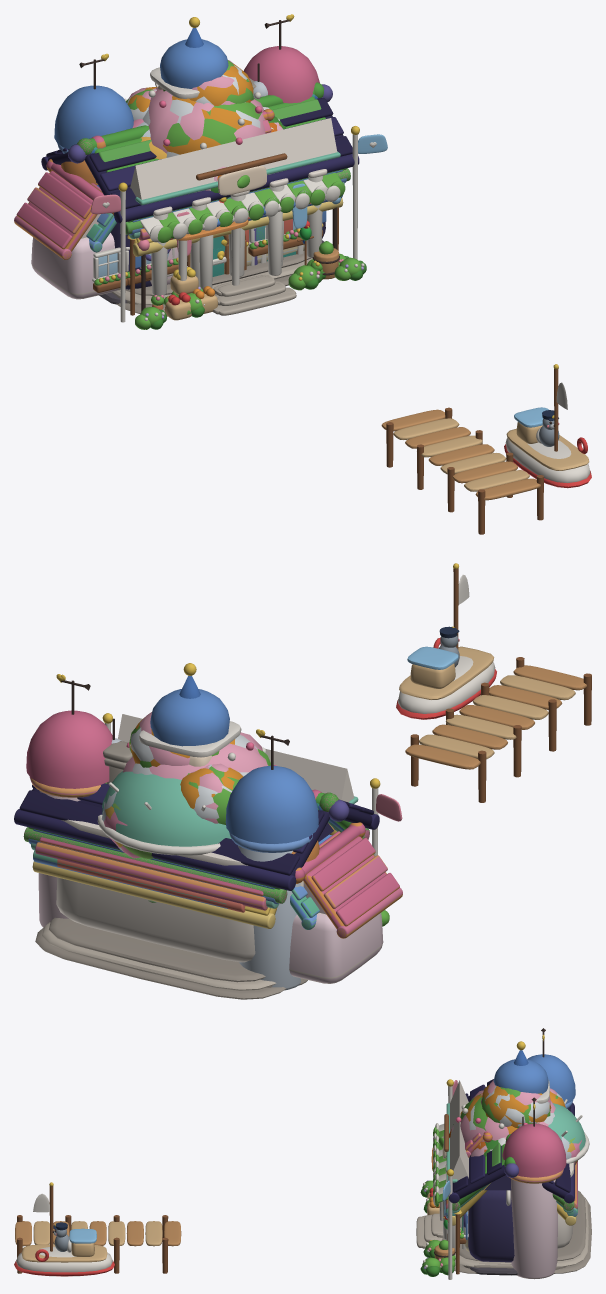
File: buildings.glb
The picture shows the model from 3 angles, top to bottom: view 1: azimuth 30°, elevation 25°; view 2: azimuth 150°, elevation 25°; view 3: azimuth 270°, elevation 25°; orthographic projection. The views are drawn at different scales.
Visible parts, largest first — view 1: museum, house_4, office, dock, club, garden, shop, dock_boat, house_3, house_5, plazatree_spring, plazatree_autumn (+6 smaller); view 2: museum, house_4, house_3, dock, club, office, dock_boat, house_5, plazatree_spring, hut, garden, house_1 (+4 smaller); view 3: house_4, museum, club, dock_boat, dock, office, plazatree_spring, garden, plazatree_autumn, house_3, plazatree_winter, shop (+4 smaller).
Boxes of the visible parts, x1,y1,x2,y2 form: museum: (116,83,366,329); house_4: (14,20,341,303); office: (91,17,359,322); dock: (381,407,543,534); club: (41,63,359,311); garden: (77,82,350,309); shop: (94,94,344,320); dock_boat: (504,364,591,488); house_3: (54,59,349,290); house_5: (14,25,341,316); plazatree_spring: (128,60,282,190); plazatree_autumn: (128,64,281,180); museum: (35,714,389,999); house_4: (26,680,402,983); house_3: (33,735,331,990); dock: (405,657,591,802); club: (14,718,379,890); office: (28,663,380,987); dock_boat: (396,563,496,719); house_5: (30,681,402,985); plazatree_spring: (103,712,276,858); hut: (32,823,336,928); garden: (24,782,369,903); house_1: (57,758,245,912); house_4: (438,1103,577,1278); museum: (416,1080,591,1276); club: (449,1079,574,1275); dock_boat: (14,1182,114,1276); dock: (15,1215,181,1273); office: (422,1041,566,1279); plazatree_spring: (450,1080,581,1164); garden: (435,1123,574,1260); plazatree_autumn: (449,1084,577,1163); house_3: (439,1033,577,1275); plazatree_winter: (450,1085,575,1164); shop: (427,1114,574,1259).
Bounding box in the file's own units: 7.44 × 6.5 × 15.51.
